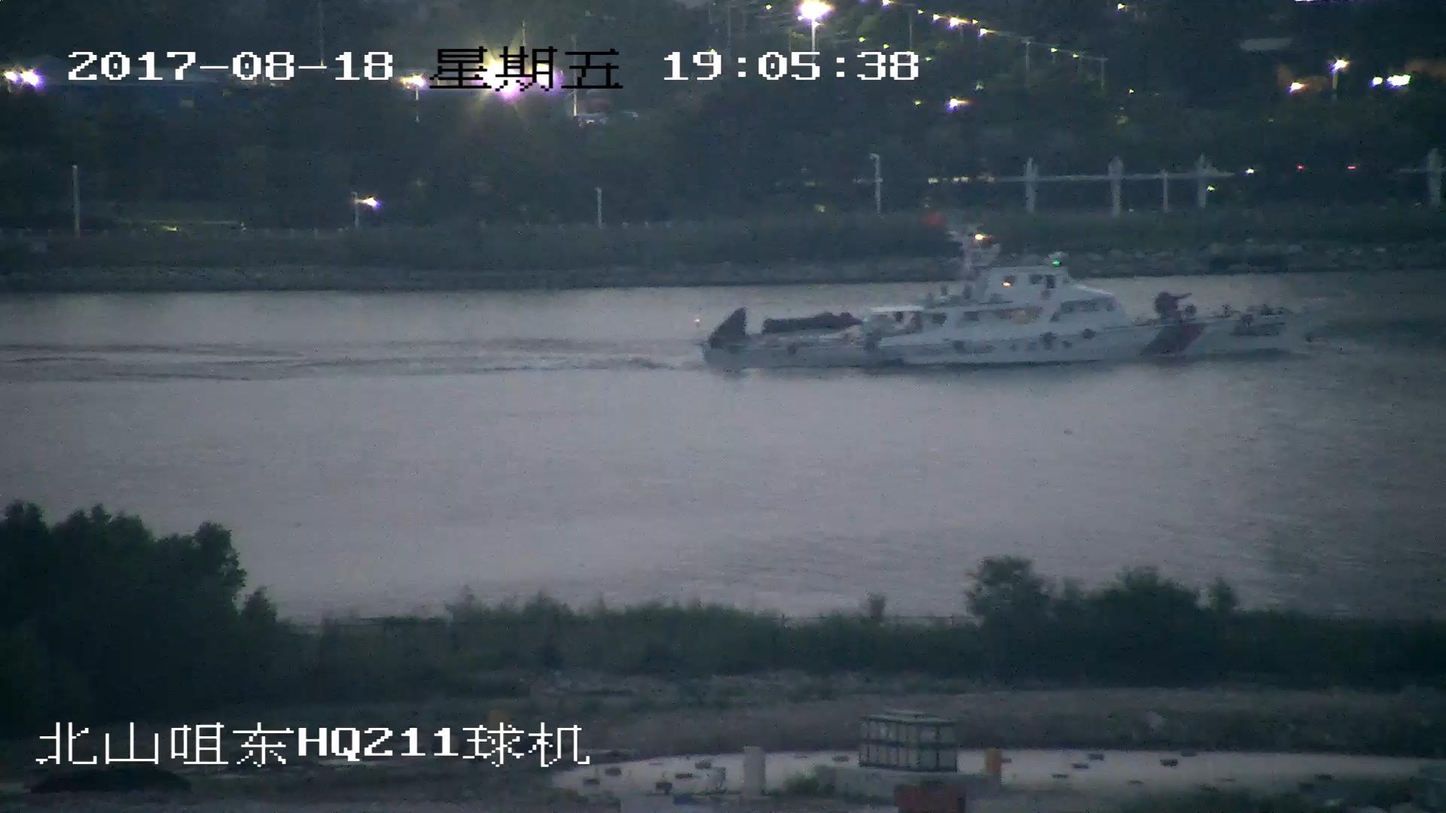passenger ship: (696, 226, 1283, 370)
